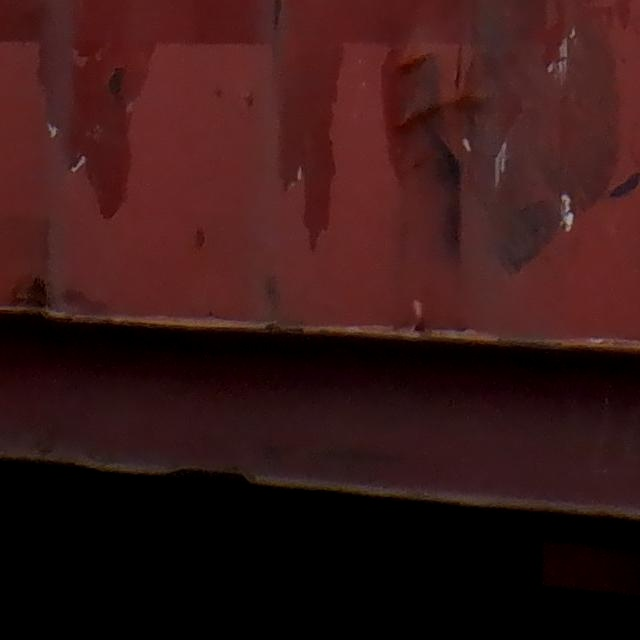Dent: (295, 1, 640, 254)
